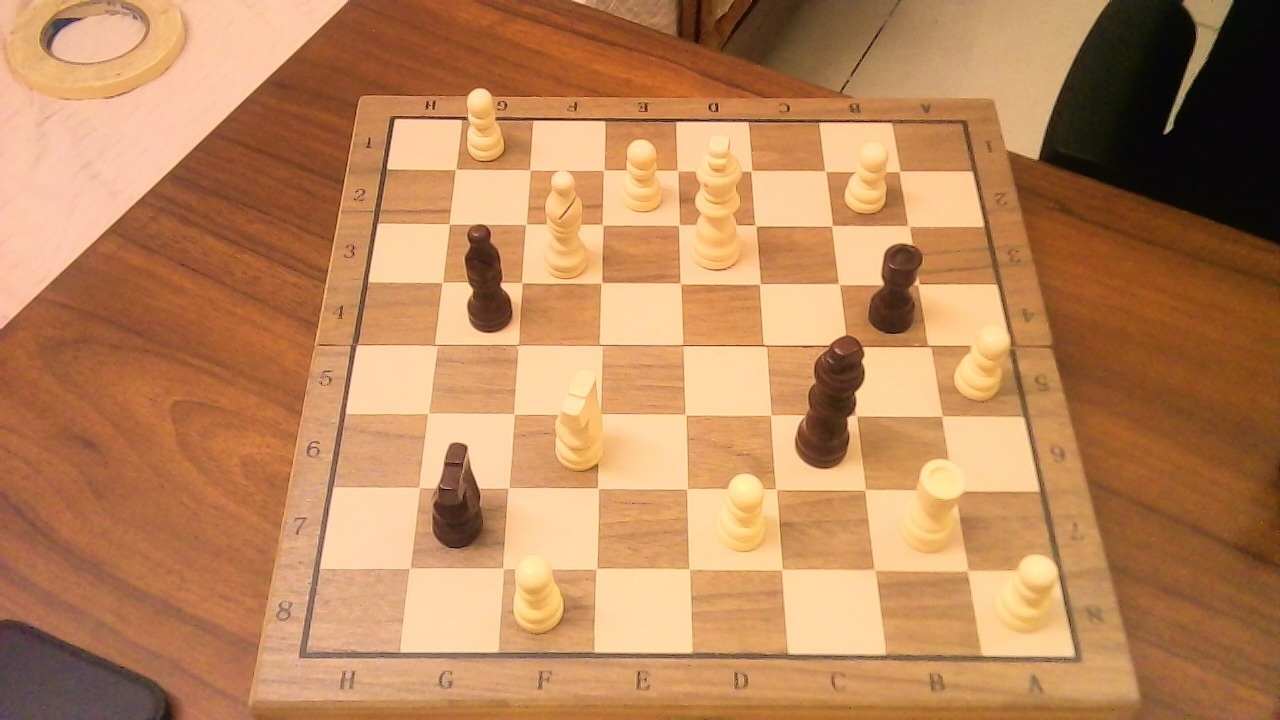B: (532, 159, 596, 282)
K: (684, 123, 753, 275)
N: (543, 358, 611, 475)
P: (989, 544, 1068, 637), (504, 544, 572, 638), (706, 463, 774, 557), (947, 316, 1018, 404), (837, 133, 897, 217), (612, 130, 669, 217), (459, 80, 511, 165)
R: (893, 448, 973, 560)
b: (453, 209, 520, 337)
k: (788, 320, 880, 475)
n: (421, 428, 497, 551)
r: (863, 230, 931, 337)
